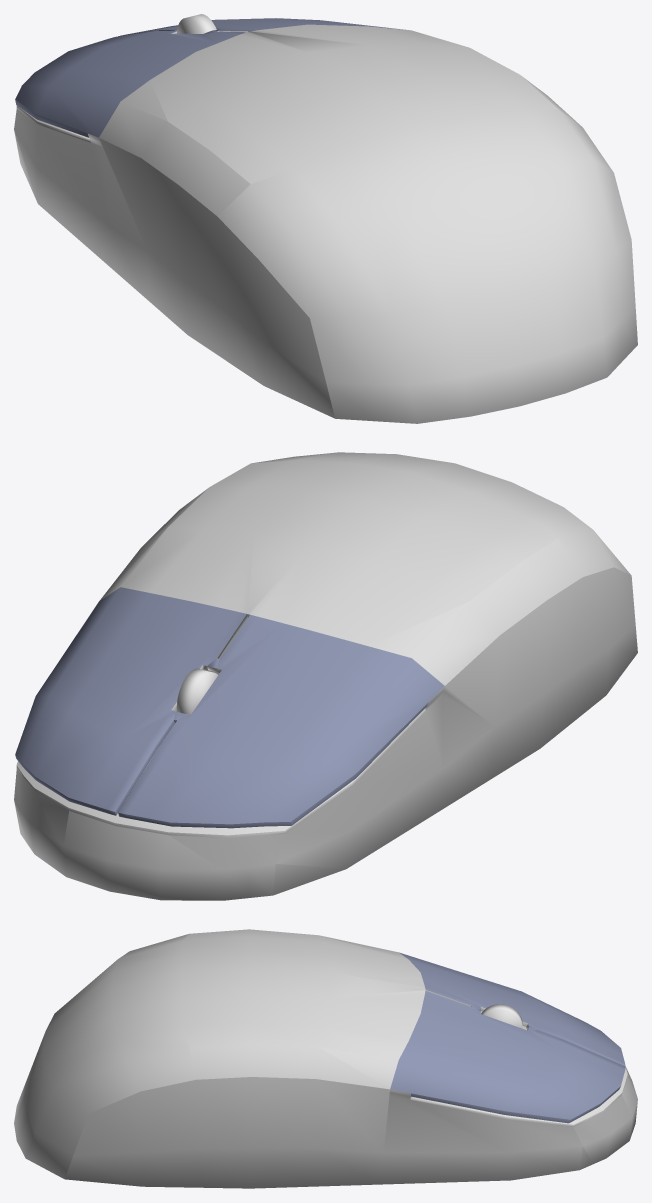
The model's file is Mouse.fbx.
3 renders of one model, top to bottom at view 1: azimuth 30°, elevation 25°; view 2: azimuth 150°, elevation 25°; view 3: azimuth 270°, elevation 25°, orthographic. The views are drawn at different scales.
Parts seen in each view (by area): view 1: Cube_Cube.001; view 2: Cube_Cube.001; view 3: Cube_Cube.001.
Boxes of the visible parts, x1=… form: Cube_Cube.001: x1=14, y1=14, x2=637, y2=423; Cube_Cube.001: x1=14, y1=452, x2=637, y2=900; Cube_Cube.001: x1=14, y1=929, x2=637, y2=1188.
Size of the model in its own units: 172 by 91.38 by 332.
